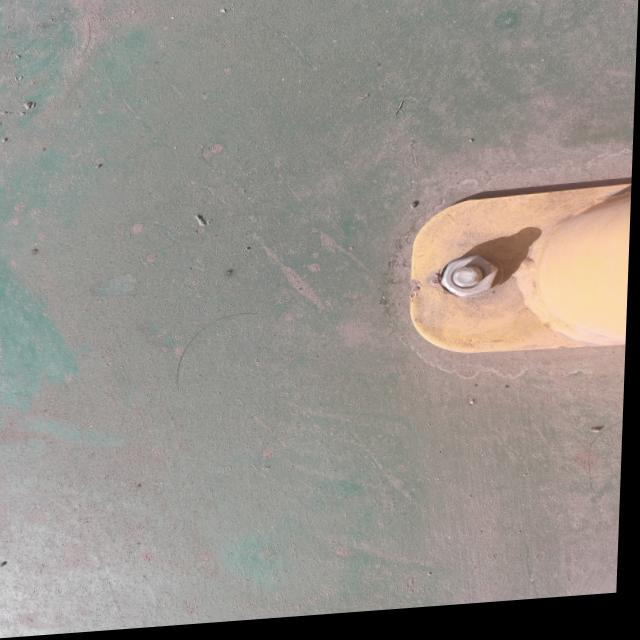Regular bolt: (443, 263, 502, 306)
